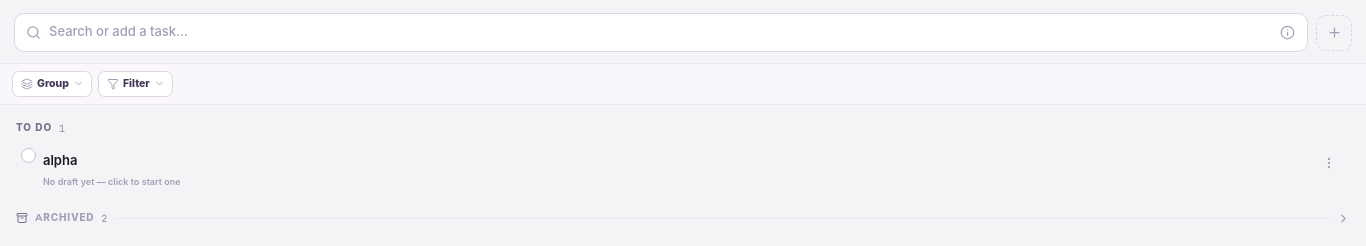
Test: the To-do rail search box › narrows the archived drawer by the same query as the open plate
Type "alpha" into the field with placeholder "Search or add a task…" at {"x": 659, "y": 33}, box 49,23 -> 1269,42
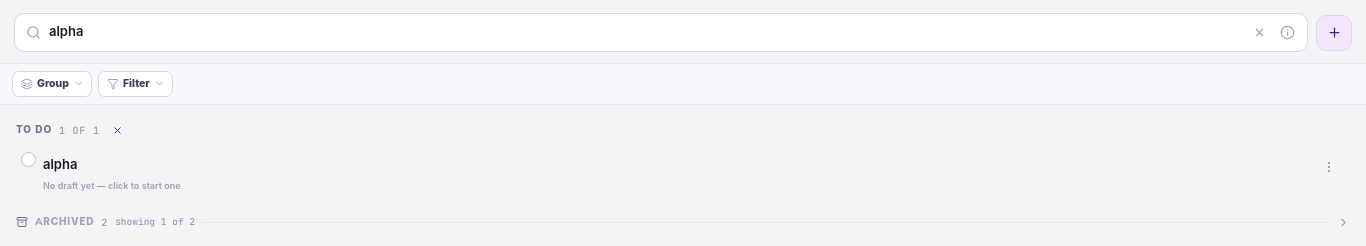
Check: the text "showing 1 of 2" is shown, box 115,215 -> 195,229
